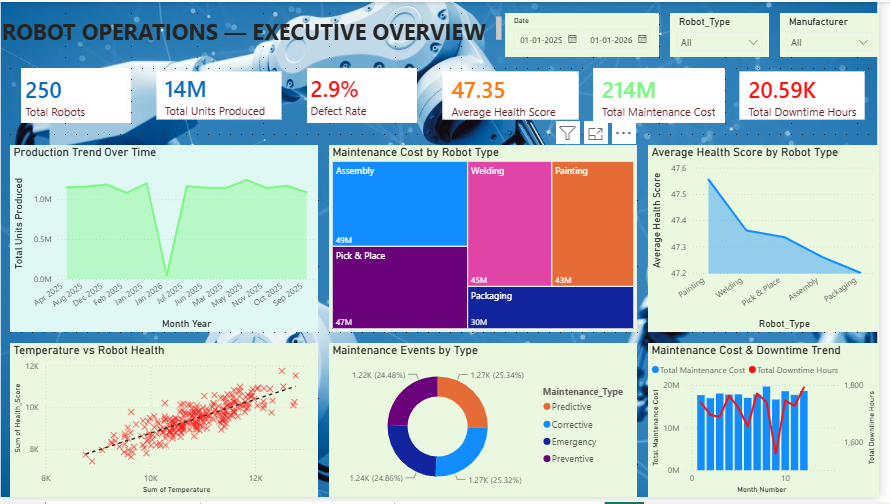

The page's visual inventory and layout, read from the dashboard file:
{"tool":"powerbi","page":{"name":"Executive Operations","canvas":[1280,720],"ordinal":0},"visuals":[{"type":"cardVisual","fields":{"Data":["Robot_Master.Total Robots"]},"box":[32,96,160,80],"z":0},{"type":"cardVisual","fields":{"Data":["Production_log.Total Units Produced"]},"box":[224,96,192,80],"z":1000},{"type":"cardVisual","fields":{"Data":["Production_log.Defect Rate"]},"box":[448,96,160,80],"z":2000},{"type":"cardVisual","fields":{"Data":["Sensor_Data.Average Health Score"]},"box":[640,96,208,80],"z":3000},{"type":"cardVisual","fields":{"Data":["Robot_Master.Total Maintenance Cost"]},"box":[864,96,192,80],"z":4000},{"type":"cardVisual","fields":{"Data":["Robot_Master.Total Downtime Hours"]},"box":[1072,96,192,80],"z":5000},{"type":"areaChart","title":"Production Trend Over Time","fields":{"Category":["Date_Table.Month Year"],"Y":["Production_log.Total Units Produced"]},"box":[16,208,448,272],"z":6000},{"type":"textbox","box":[0,16,736,48],"z":7000},{"type":"slicer","fields":{"Values":["Date_Table.Date"]},"box":[736,16,224,64],"z":8000},{"type":"slicer","fields":{"Values":["Robot_Master.Robot_Type"]},"box":[976,16,144,64],"z":9000},{"type":"slicer","fields":{"Values":["Robot_Master.Manufacturer"]},"box":[1136,16,144,64],"z":10000},{"type":"treemap","title":"Maintenance Cost by Robot Type","fields":{"Group":["Robot_Master.Robot_Type"],"Values":["Robot_Master.Total Maintenance Cost"]},"box":[480,208,448,272],"z":11000},{"type":"stackedAreaChart","title":"Average Health Score by Robot Type","fields":{"Category":["Robot_Master.Robot_Type"],"Y":["Sensor_Data.Average Health Score"]},"box":[944,208,336,272],"z":12000},{"type":"scatterChart","title":"Temperature vs Robot Health","fields":{"X":["Sum(Sensor_Data.Temperature)"],"Y":["Sum(Sensor_Data.Health_Score)"],"Category":["Robot_Master.Robot_ID"]},"box":[16,496,448,224],"z":13000},{"type":"donutChart","title":"Maintenance Events by Type","fields":{"Category":["Maintenance_log.Maintenance_Type"],"Y":["CountNonNull(Maintenance_log.Maintenance_ID)"]},"box":[480,496,448,224],"z":14000},{"type":"lineClusteredColumnComboChart","title":"Maintenance Cost & Downtime Trend","fields":{"Category":["Date_Table.Month Number"],"Y":["Robot_Master.Total Maintenance Cost"],"Y2":["Robot_Master.Total Downtime Hours"]},"box":[944,496,336,224],"z":15000}]}

Visuals, with their boxes in screenshot pixels (x1, y1, x2, y2), scaled from the page's 1280x720 canvas onto the 890x504 screenshot:
cardVisual - Robot_Master.Total Robots: BBox(22, 67, 134, 123)
cardVisual - Production_log.Total Units Produced: BBox(156, 67, 289, 123)
cardVisual - Production_log.Defect Rate: BBox(312, 67, 423, 123)
cardVisual - Sensor_Data.Average Health Score: BBox(445, 67, 590, 123)
cardVisual - Robot_Master.Total Maintenance Cost: BBox(601, 67, 734, 123)
cardVisual - Robot_Master.Total Downtime Hours: BBox(745, 67, 879, 123)
"Production Trend Over Time" areaChart: BBox(11, 146, 323, 336)
textbox: BBox(0, 11, 512, 45)
slicer - Date_Table.Date: BBox(512, 11, 668, 56)
slicer - Robot_Master.Robot_Type: BBox(679, 11, 779, 56)
slicer - Robot_Master.Manufacturer: BBox(790, 11, 889, 56)
"Maintenance Cost by Robot Type" treemap: BBox(334, 146, 645, 336)
"Average Health Score by Robot Type" stackedAreaChart: BBox(656, 146, 889, 336)
"Temperature vs Robot Health" scatterChart: BBox(11, 347, 323, 503)
"Maintenance Events by Type" donutChart: BBox(334, 347, 645, 503)
"Maintenance Cost & Downtime Trend" lineClusteredColumnComboChart: BBox(656, 347, 889, 503)
